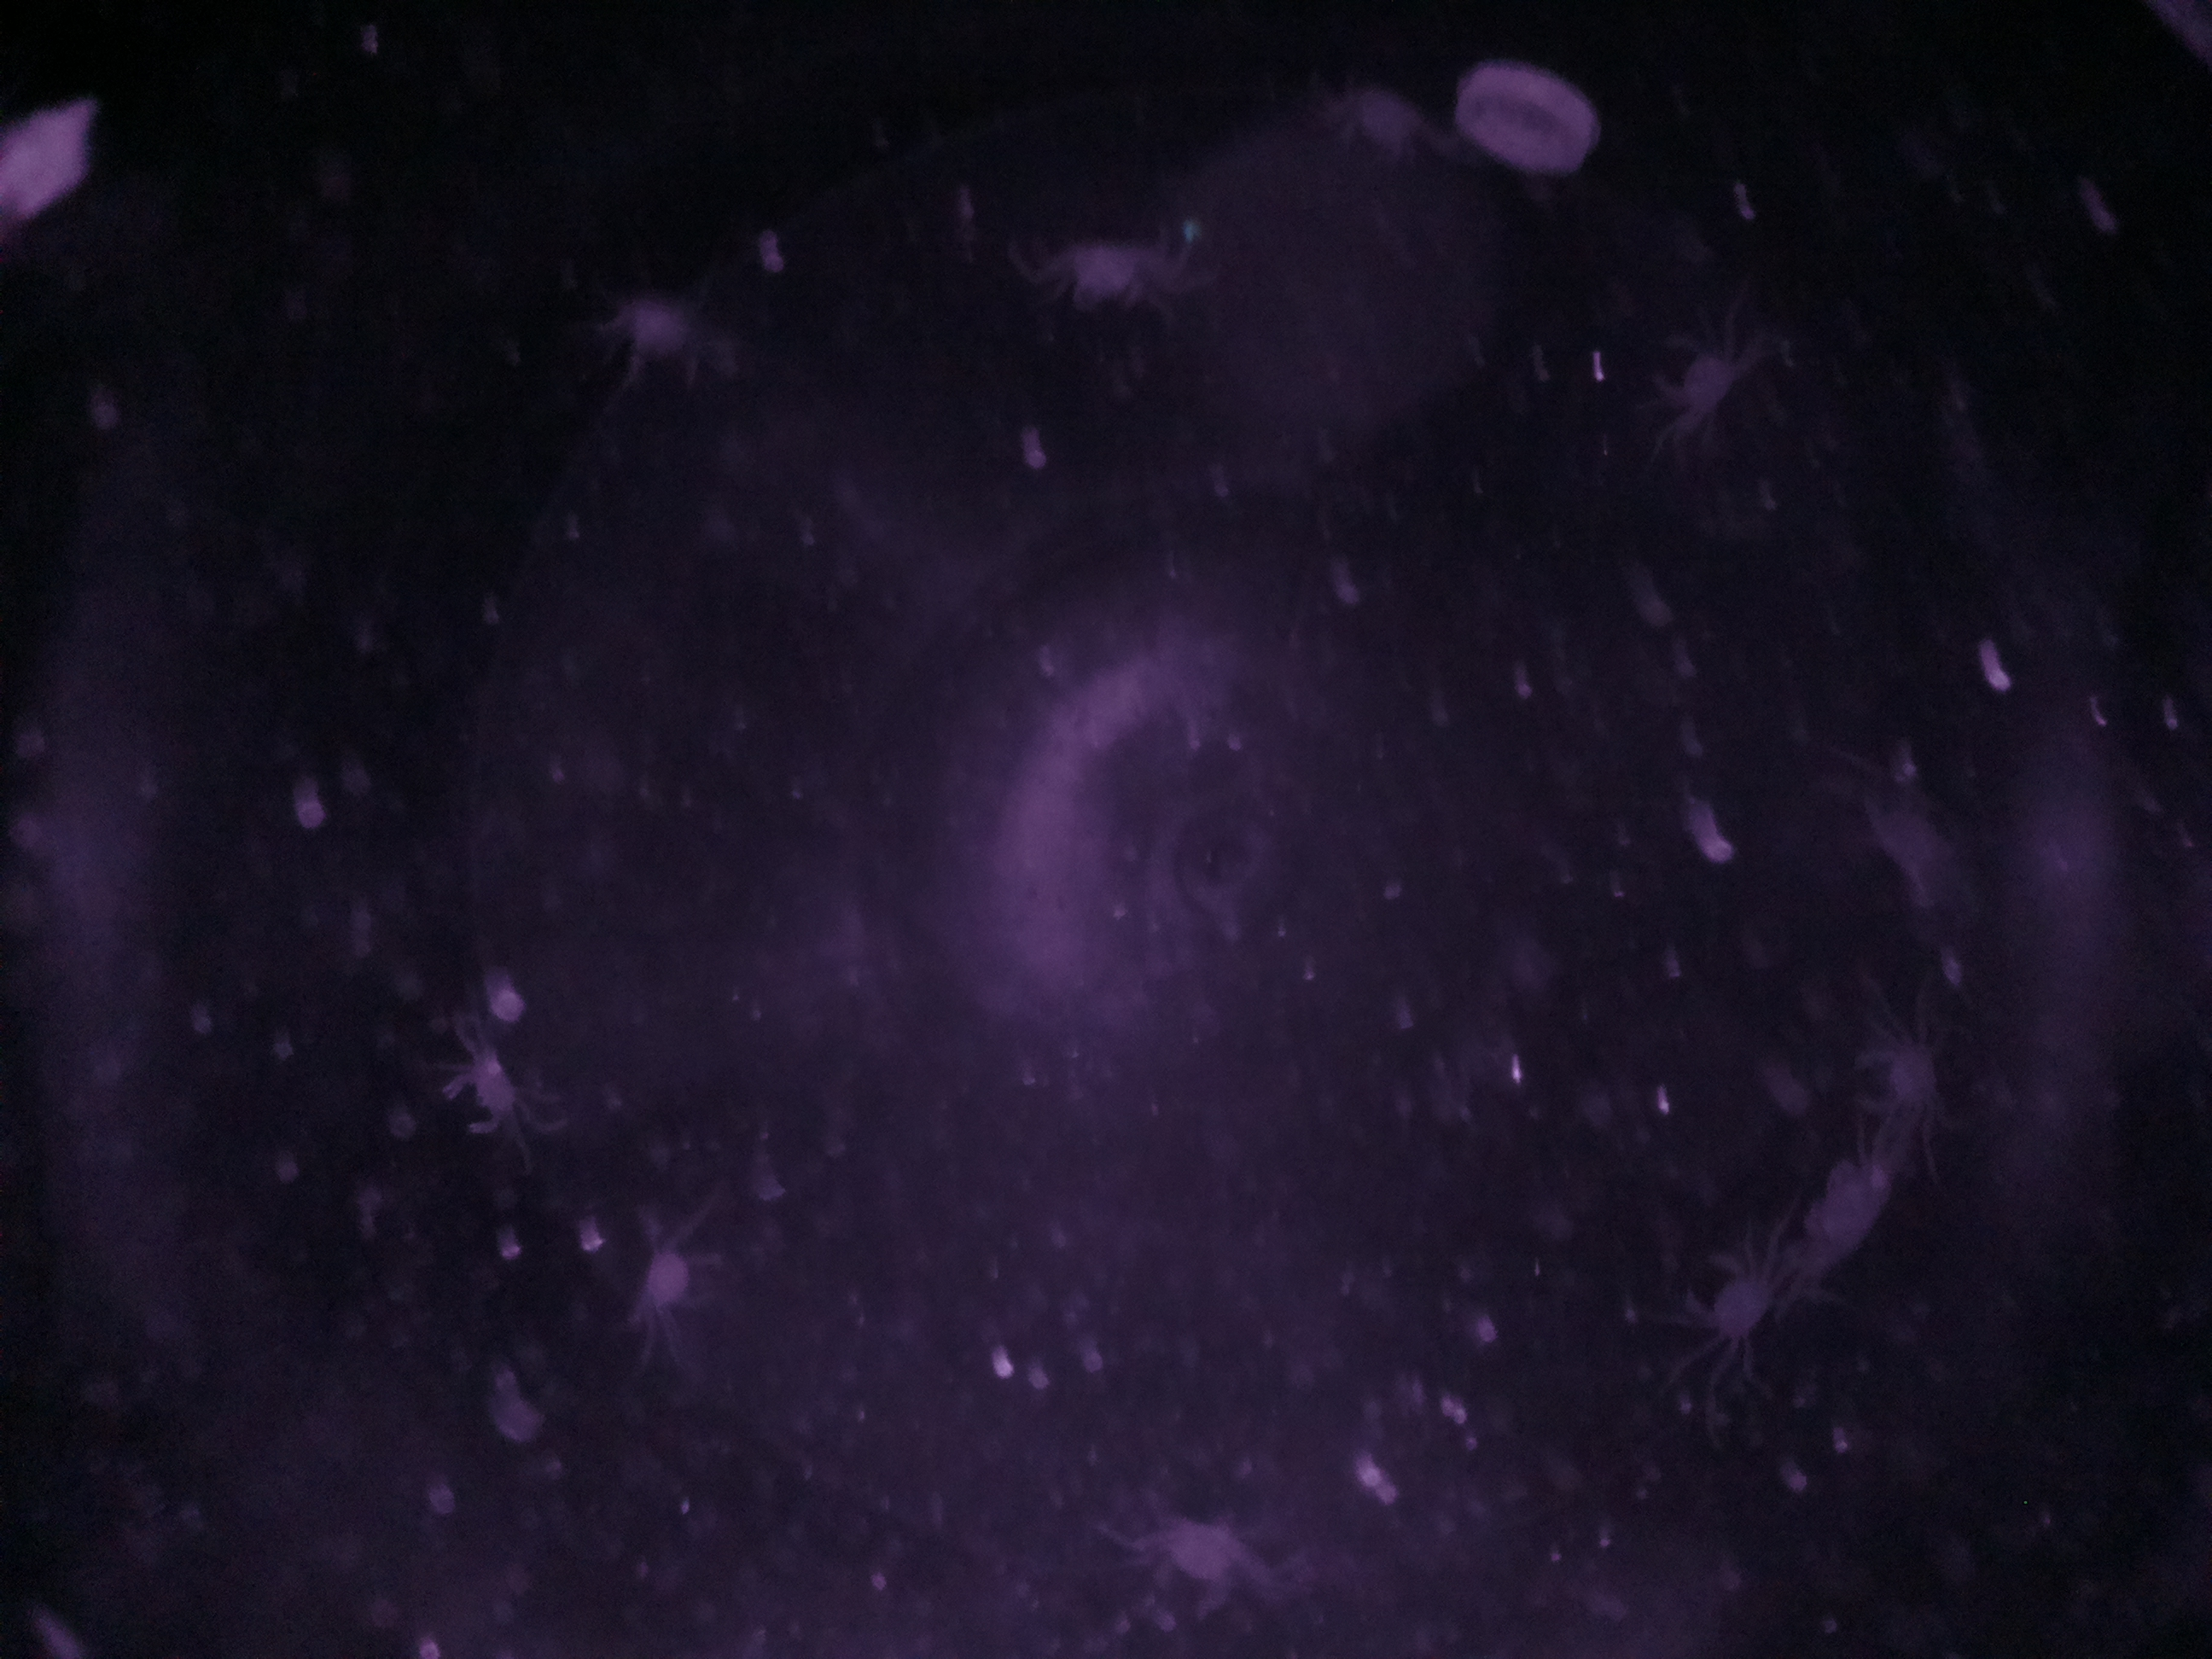Crab: (1132, 1492, 1256, 1631), (618, 1215, 726, 1345), (1676, 1239, 1792, 1359), (1632, 314, 1750, 425), (434, 1039, 529, 1152)
